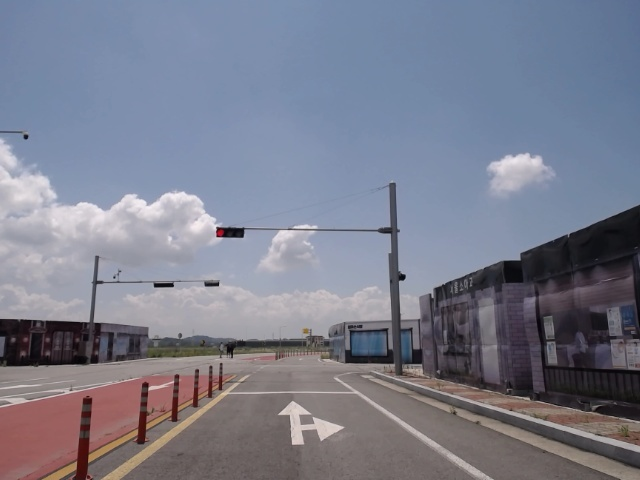red_3: (214, 227, 245, 237)
